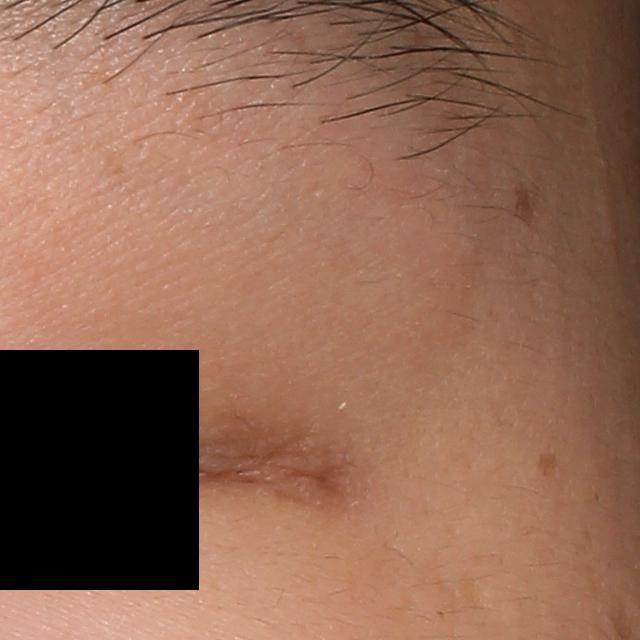nevus: (511, 184, 535, 226)
